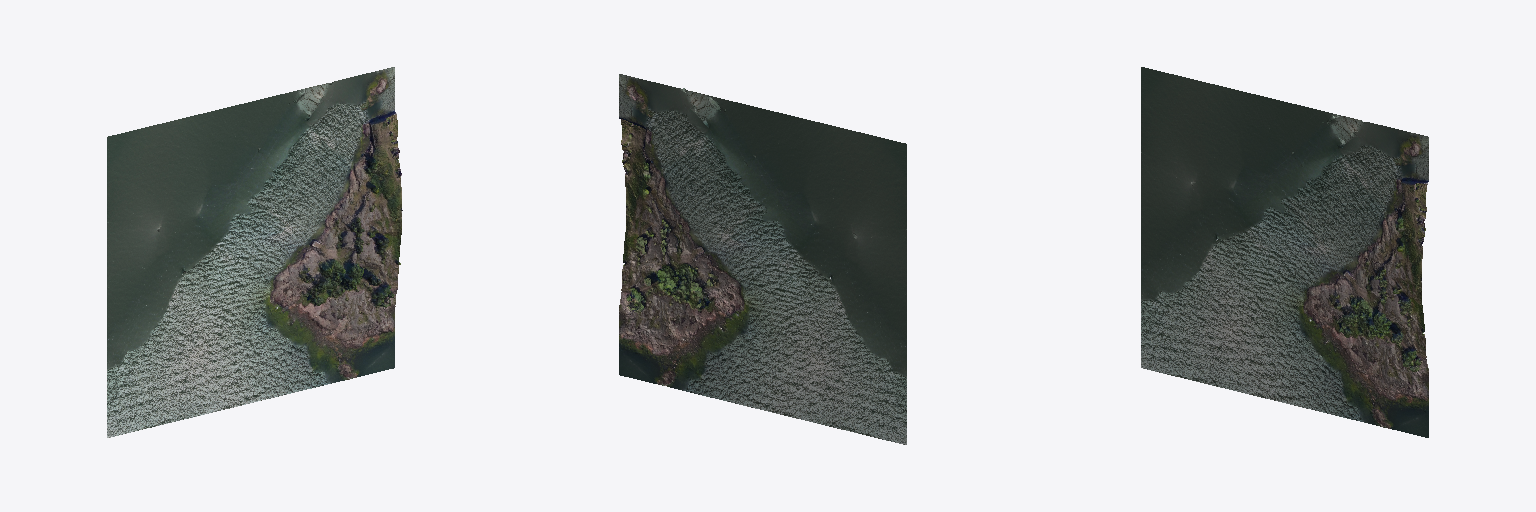
The picture shows the model from 3 angles: view 1: azimuth 30°, elevation 25°; view 2: azimuth 150°, elevation 25°; view 3: azimuth 330°, elevation 25°; orthographic projection.
Bounding box in the file's own units: 252 × 252 × 15.59.
Materials: 2 (1 with a texture image).